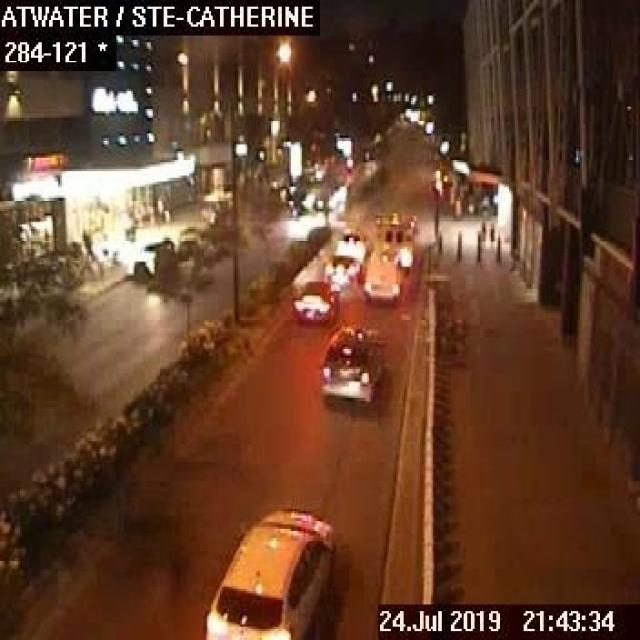pedestrian: (82, 228, 94, 260), (478, 218, 486, 246), (488, 219, 494, 245)
vehicle: (202, 507, 334, 638), (316, 324, 388, 406), (374, 212, 417, 268), (362, 249, 405, 304), (293, 280, 338, 320), (323, 252, 361, 284), (335, 227, 367, 256)
